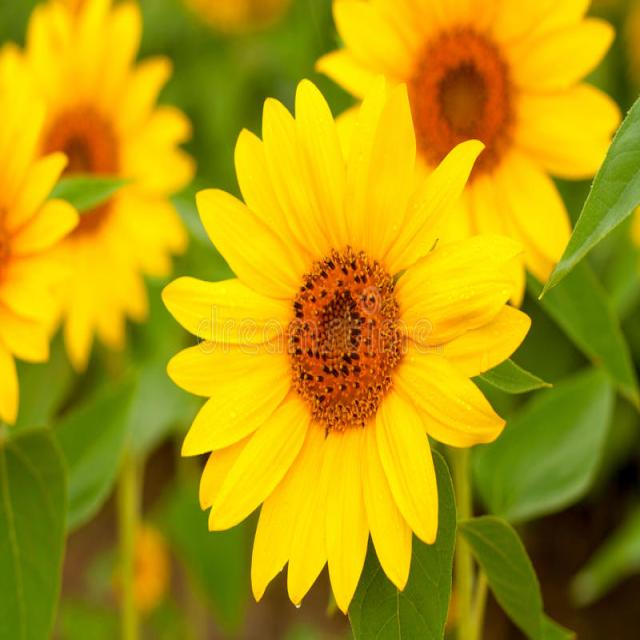sunflower: (147, 55, 534, 640), (318, 0, 621, 376), (12, 0, 200, 371)
